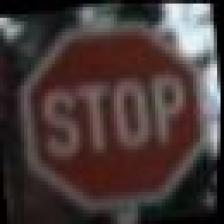Stop: (2, 5, 219, 222)
